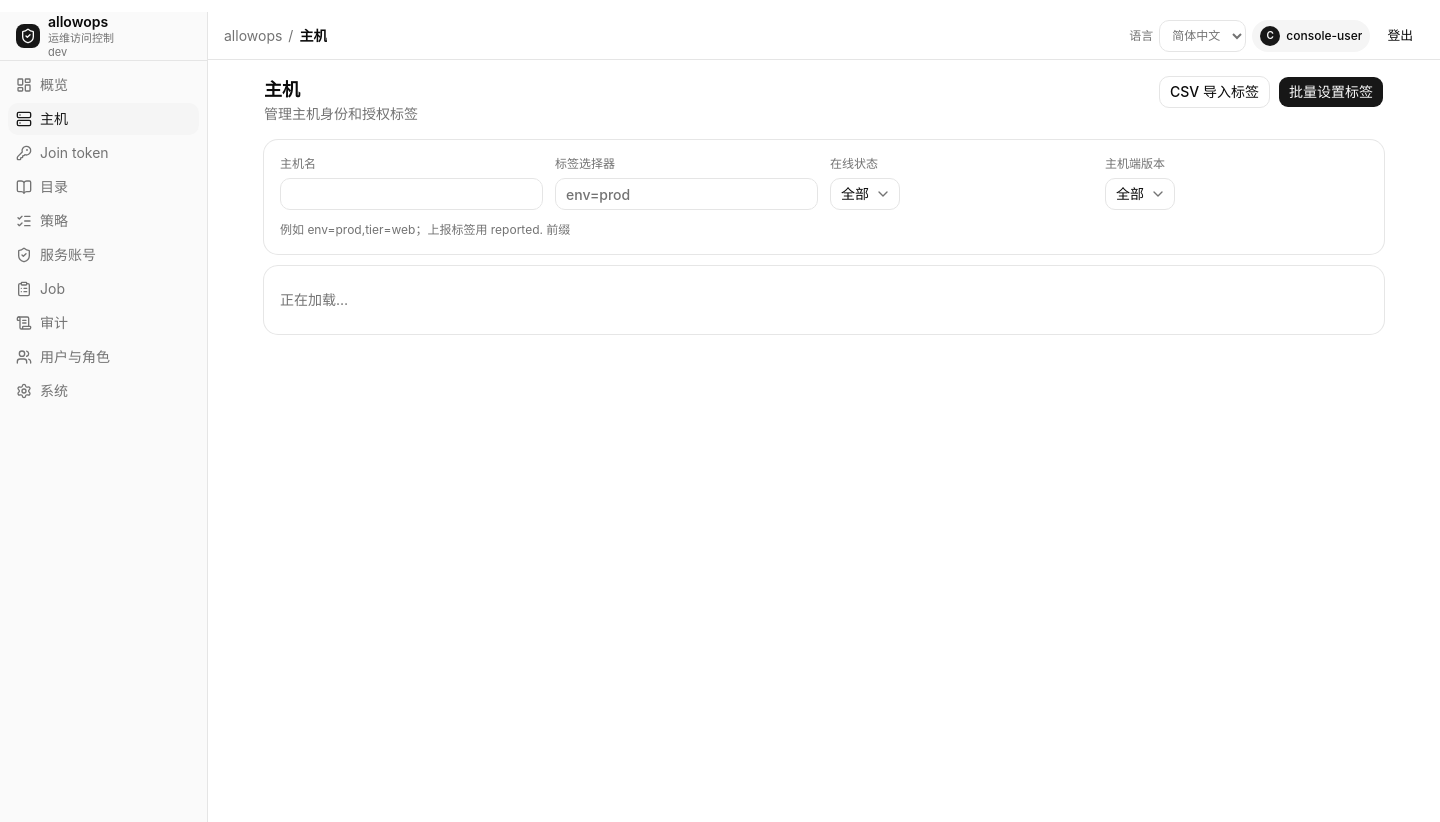
Test: console mutation workflows › previews exact bulk targets before applying authorization labels
Check: the heading "主机" is shown, box [264,79,300,100]
Click the button "批量设置标签".
click(1331, 92)  # box [1278,76,1384,108]
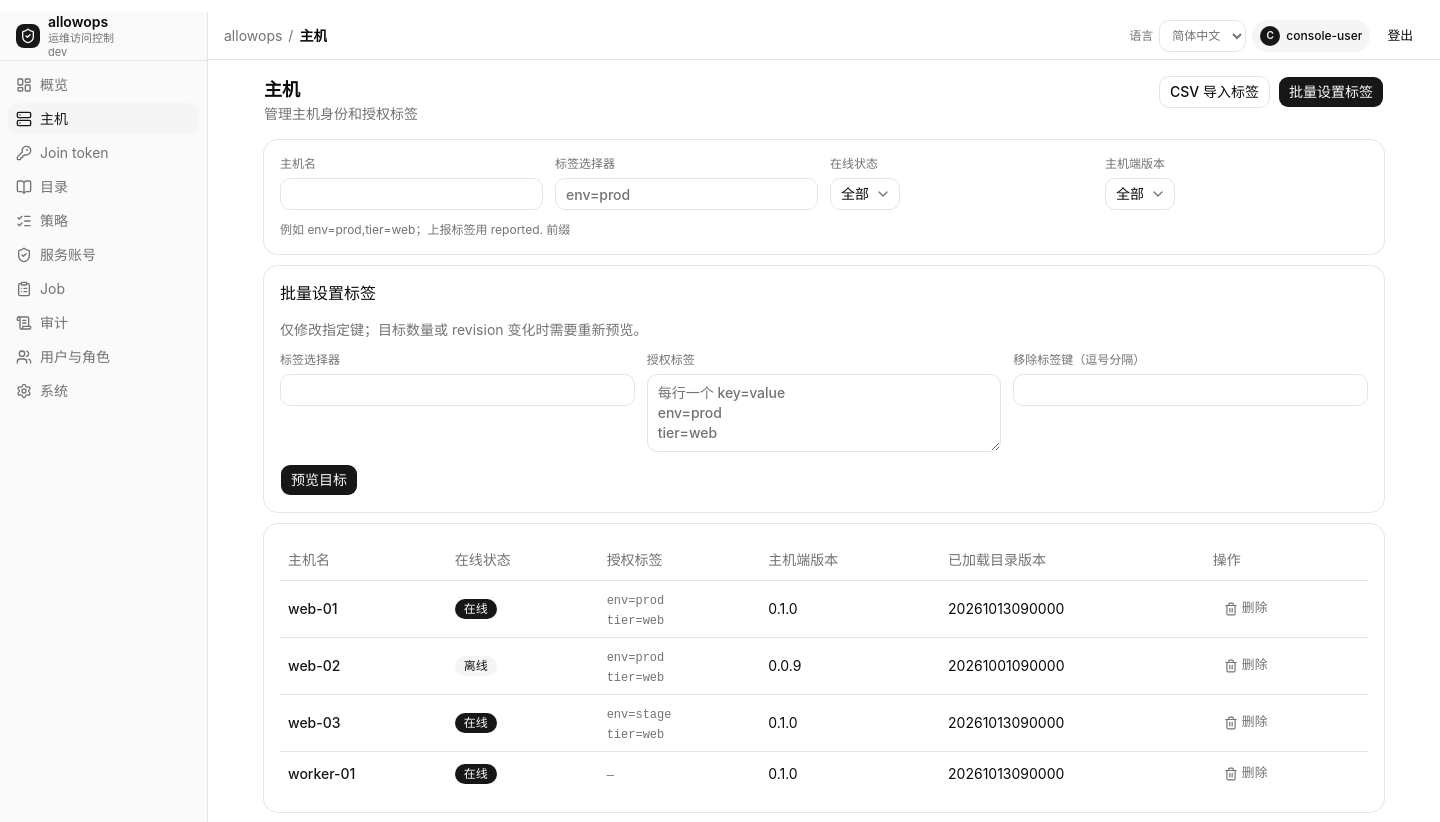
Type "env=prod" into the field labelled "标签选择器" below "仅修改指定键；目标数量或 revision 变化时需要重新预览。".
click(457, 390); type("env=prod")  # box [280,374,635,406]
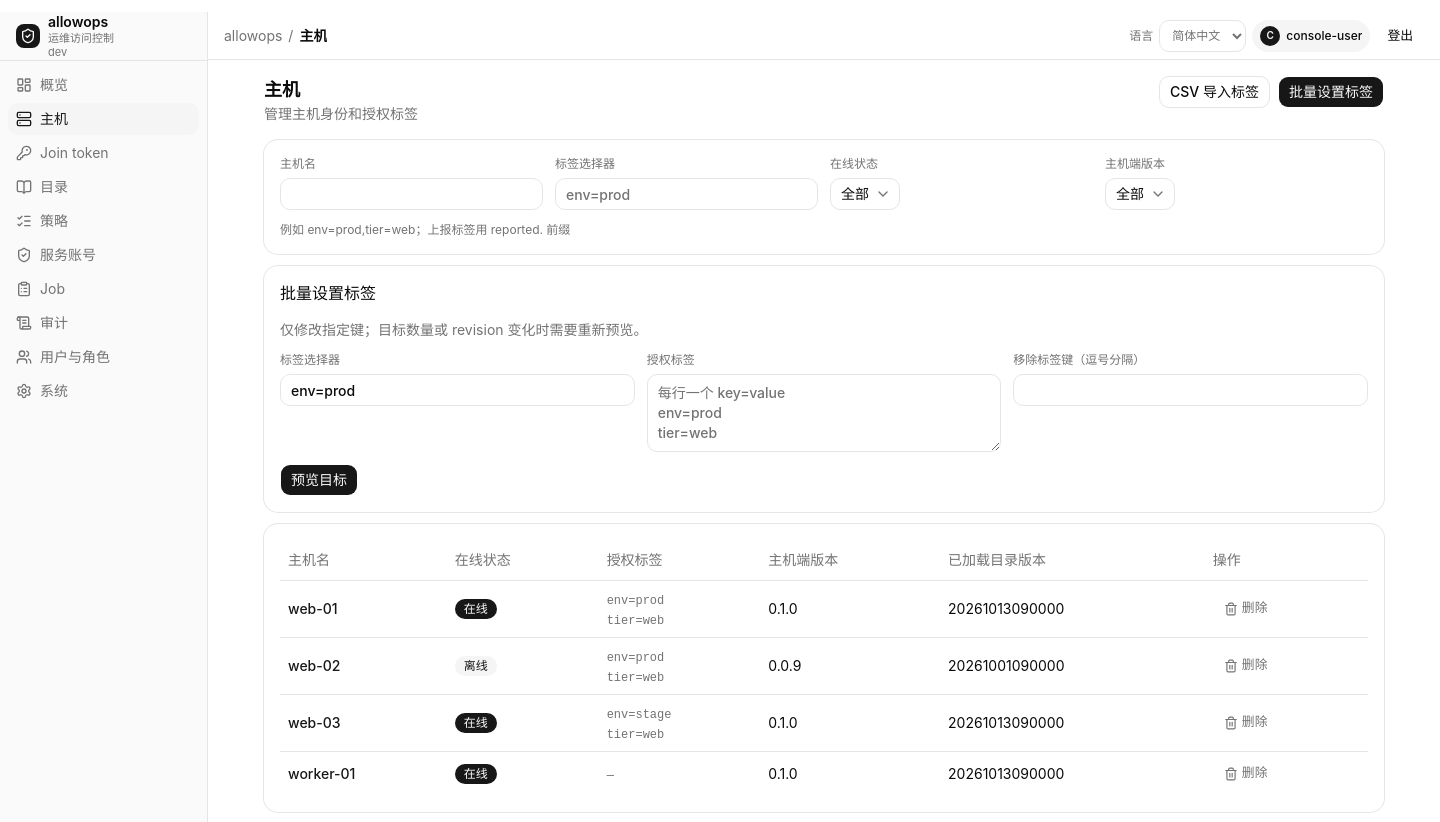
Type "team=ops" into the text box labelled "授权标签".
click(824, 413); type("team=ops")  # box [647,374,1001,452]
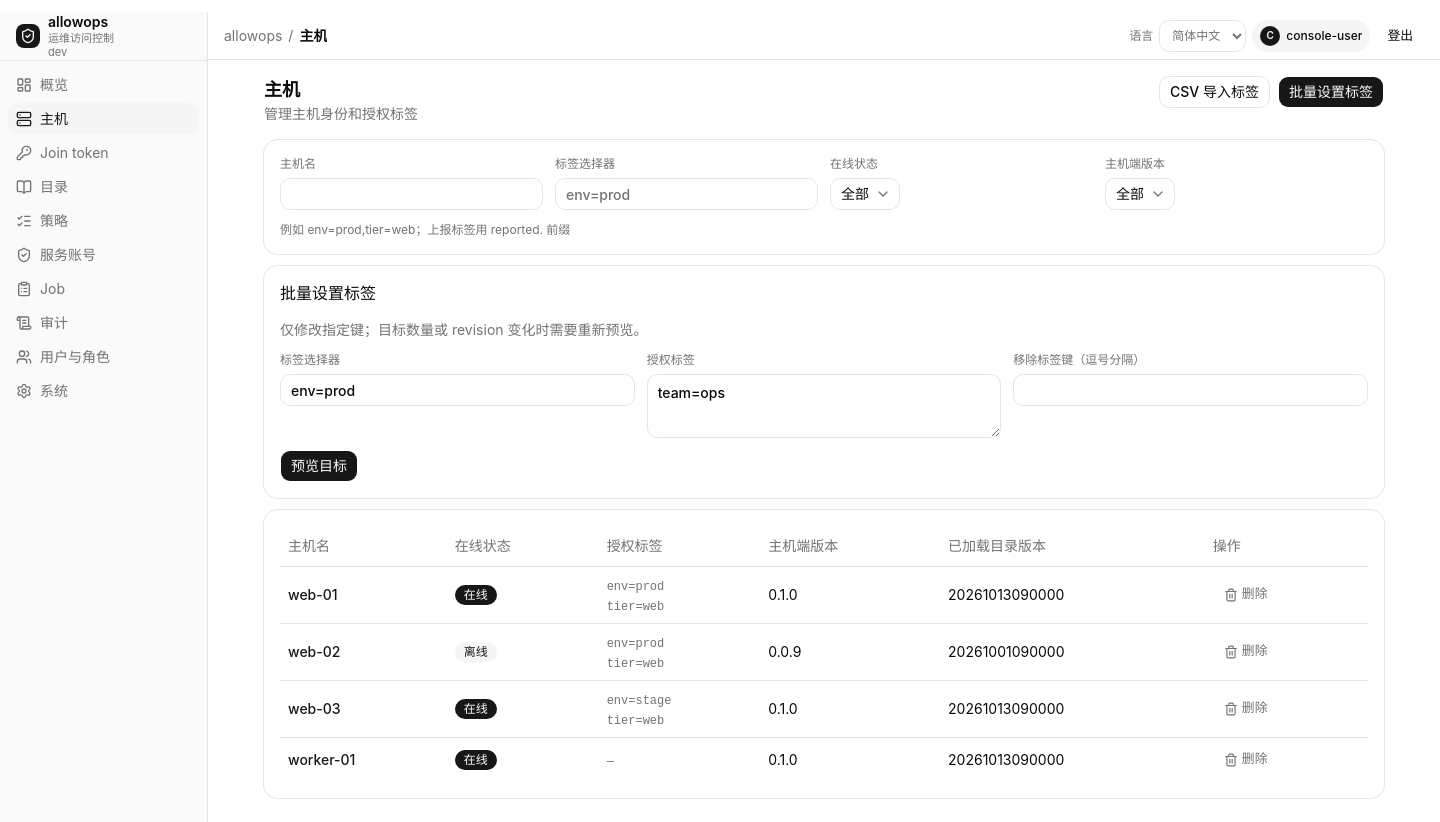
Click the button "预览目标".
click(319, 466)  # box [280,450,358,482]
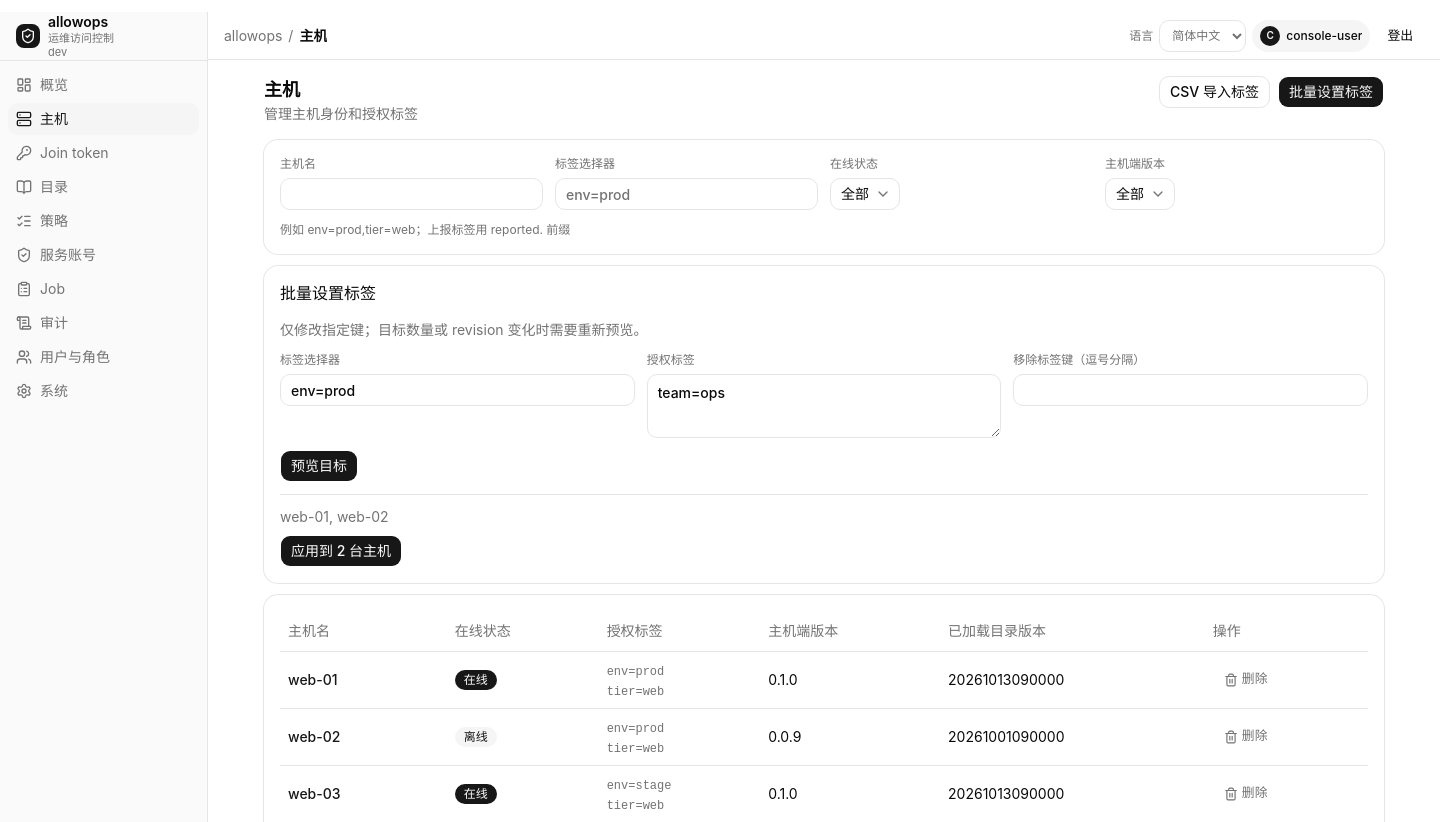
Click the button "应用到 2 台主机".
click(341, 551)  # box [280,535,402,567]
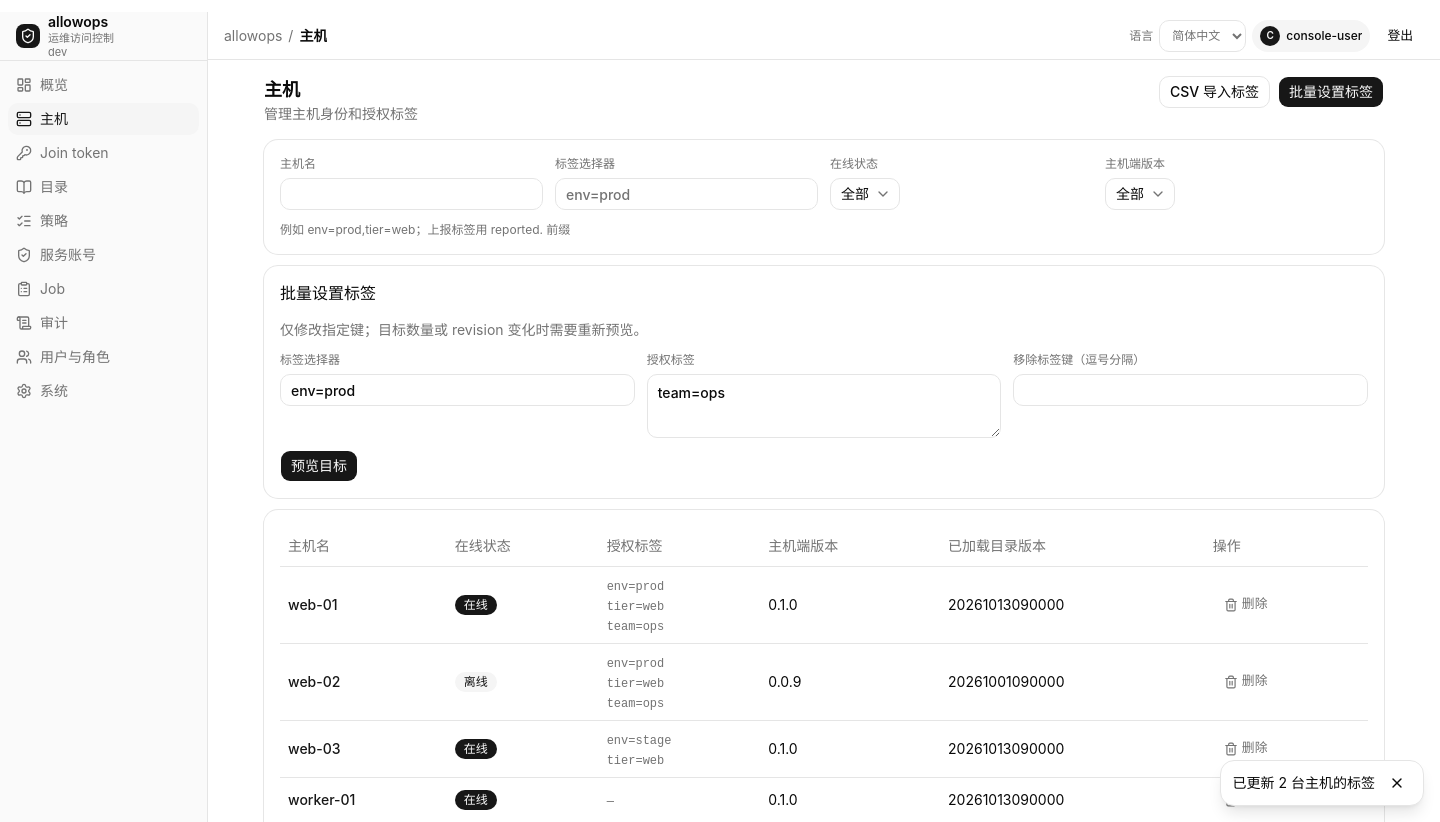
Check: the message reads "已更新 2 台主机的标签", box [1233,774,1375,791]
